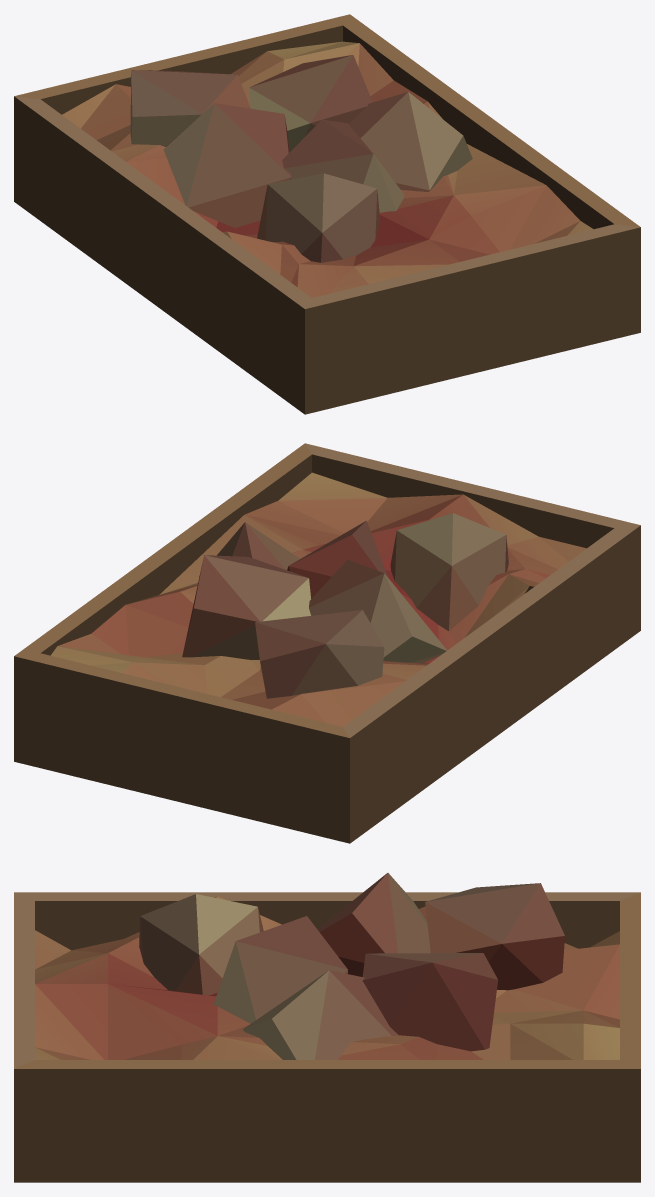
The model's file is Prop_FoodBoxC.fbx.
The picture shows the model from 3 angles, top to bottom: view 1: azimuth 30°, elevation 25°; view 2: azimuth 150°, elevation 25°; view 3: azimuth 270°, elevation 25°; orthographic projection. The views are drawn at different scales.
Visible parts, largest first — view 1: Prop_FoodBoxC; view 2: Prop_FoodBoxC; view 3: Prop_FoodBoxC.
Boxes of the visible parts, x1=… form: Prop_FoodBoxC: x1=14, y1=14, x2=640, y2=414; Prop_FoodBoxC: x1=14, y1=443, x2=640, y2=843; Prop_FoodBoxC: x1=14, y1=873, x2=640, y2=1182.
Size of the model in its own units: 50 by 23.37 by 75.
